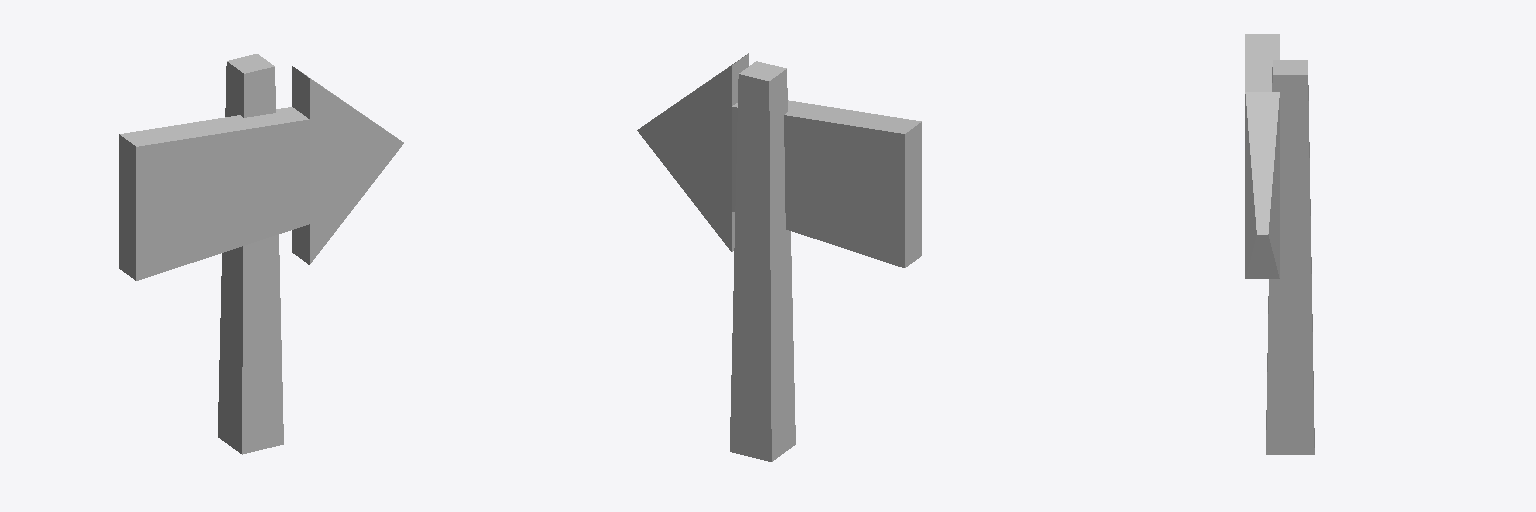
The model's file is arrow.obj.
The picture shows the model from 3 angles: view 1: azimuth 30°, elevation 25°; view 2: azimuth 150°, elevation 25°; view 3: azimuth 270°, elevation 25°; orthographic projection.
Visible parts, largest first — view 1: arrow; view 2: arrow; view 3: arrow.
Boxes of the visible parts, <box> form: arrow: <box>119,54,403,454</box>; arrow: <box>637,53,921,461</box>; arrow: <box>1245,34,1314,454</box>.
Size of the model in its own units: 0.4557 by 0.6 by 0.0998.